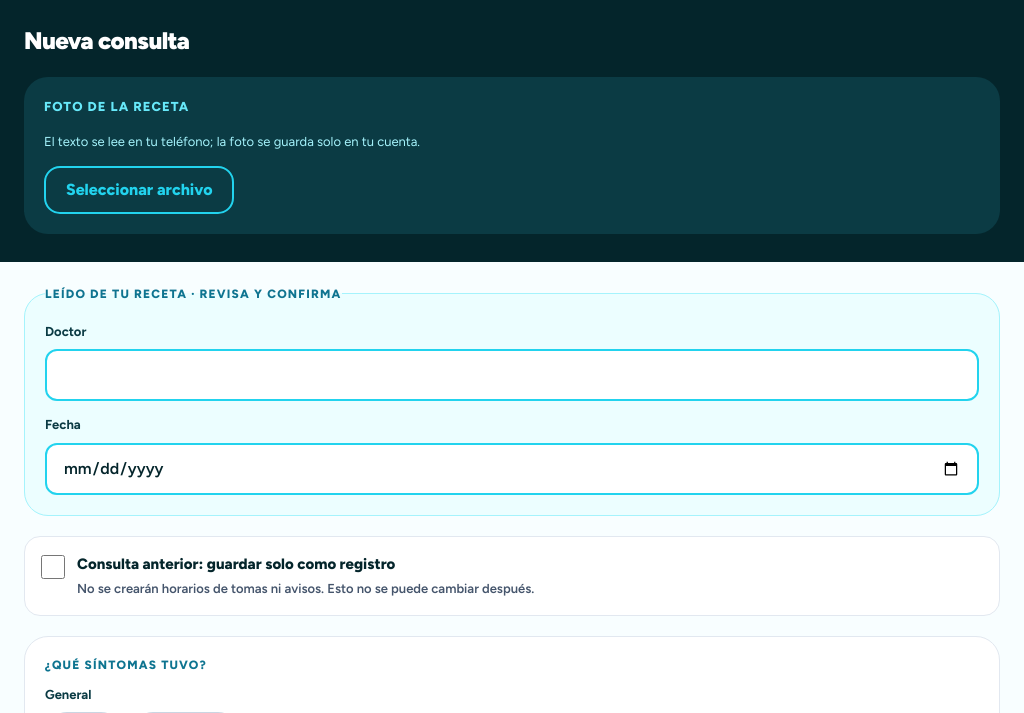
Test: ConsultationForm › validation and saving › rejects submission without a photo (FR-004), telling so in the OCR panel
In the field labelled "Doctor": (512, 375) [45, 349, 979, 401], type "Dra. López"
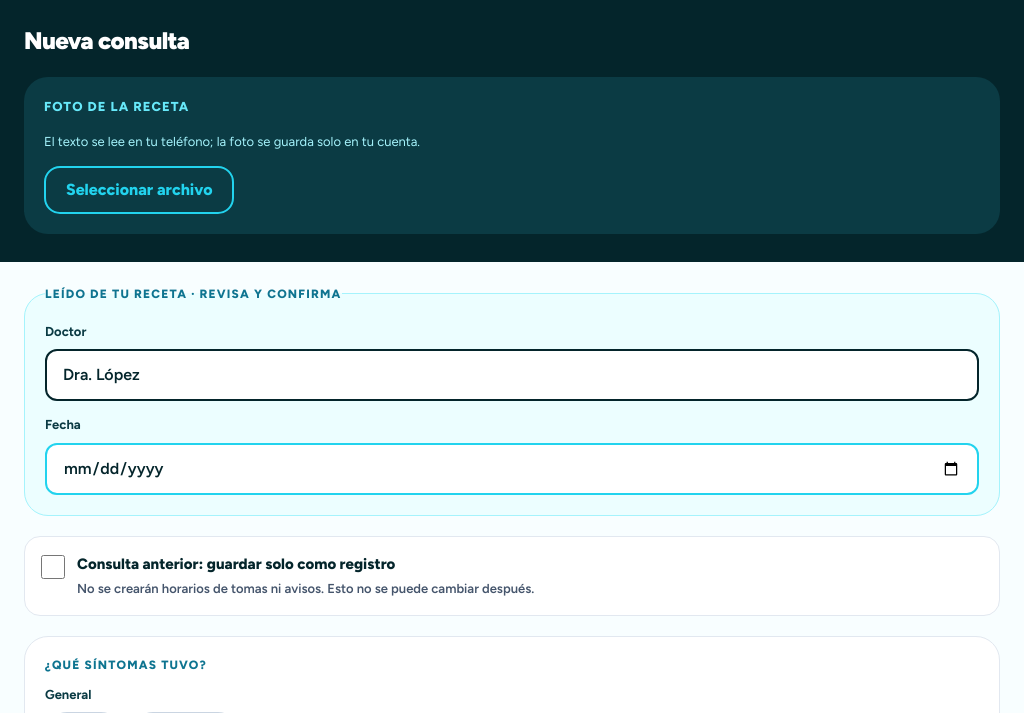
In the date field labelled "Fecha": (512, 469) [45, 443, 979, 495], type "2026-01-15"
(page scrolled)
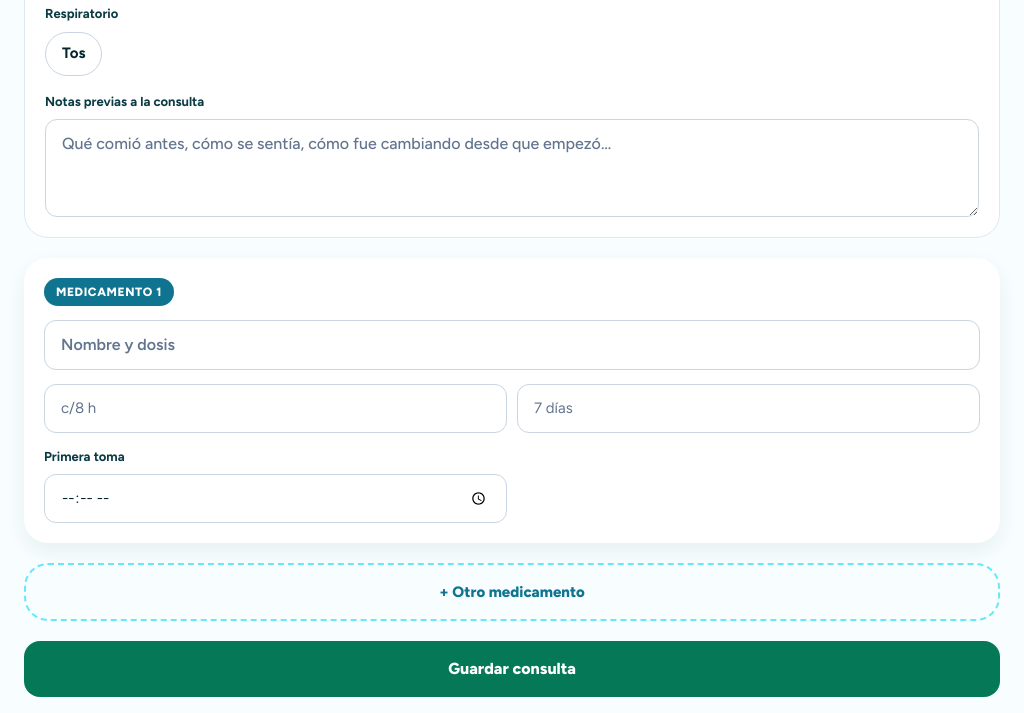
In the field with id "medications": (512, 345) [44, 320, 980, 370], type "Amoxicilina"
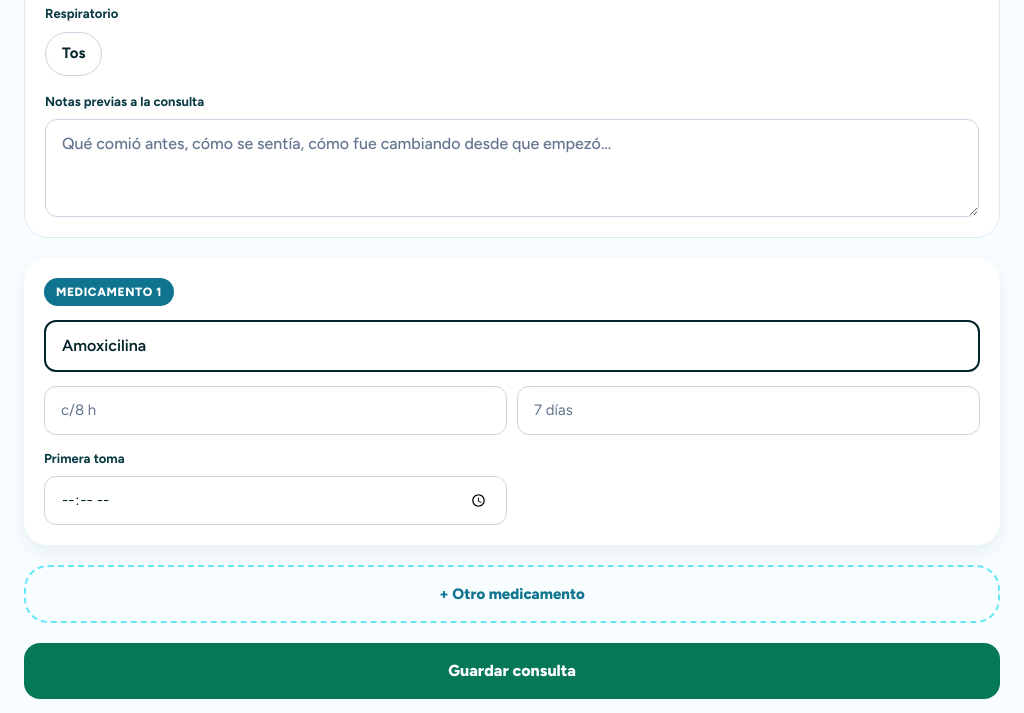
In the field with id "medications": (276, 410) [44, 386, 507, 435], type "8"
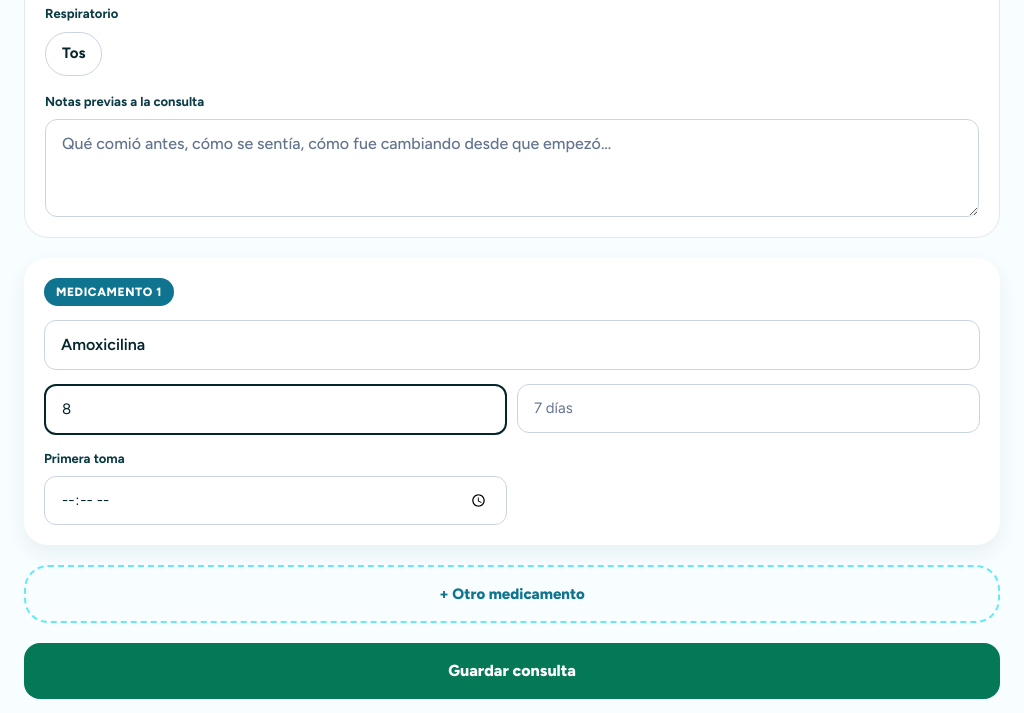
In the field with id "medications": (748, 408) [517, 384, 980, 433], type "7"
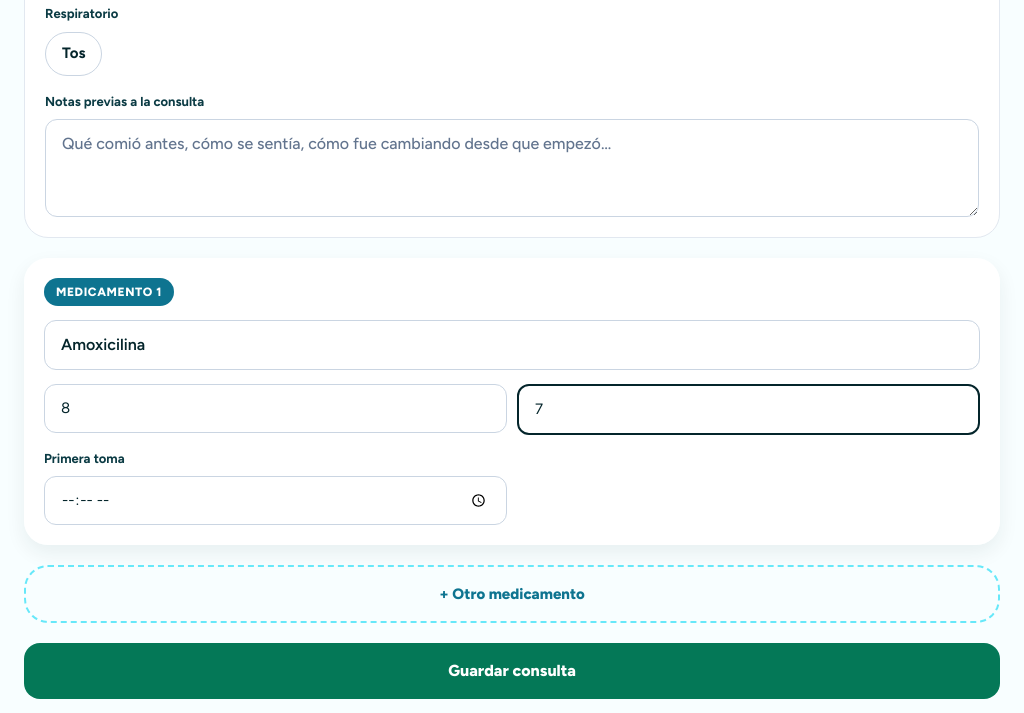
Click the button "Guardar consulta": (512, 671) [24, 643, 1000, 699]
(page scrolled)
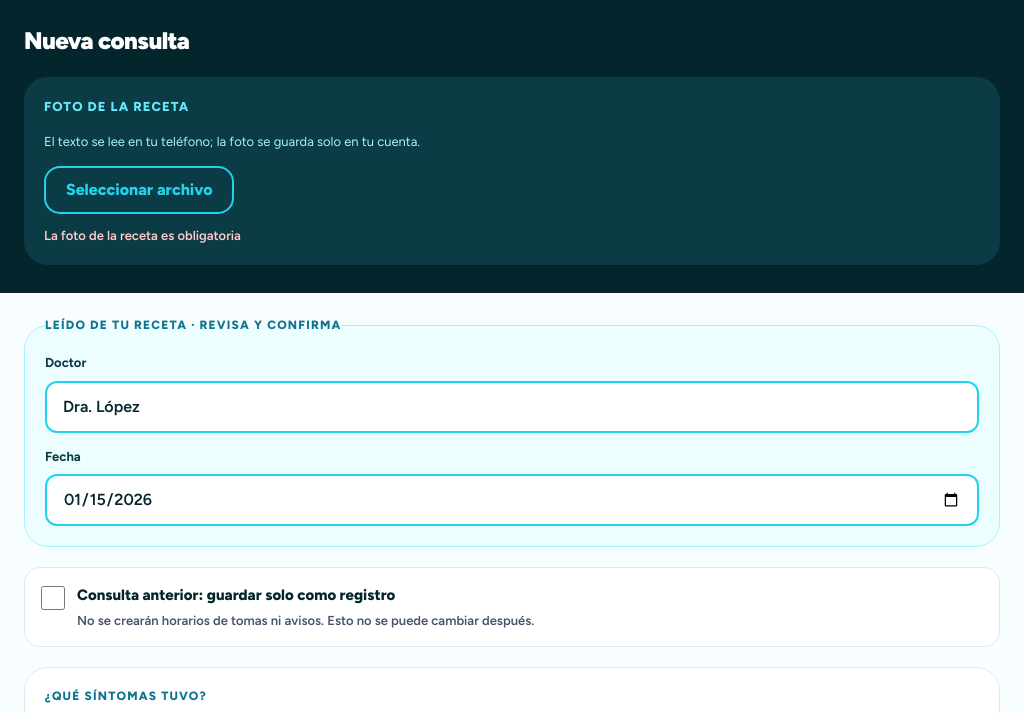
Check: the text "La foto de la receta es obligatoria" is shown, box [44, 228, 241, 243]
